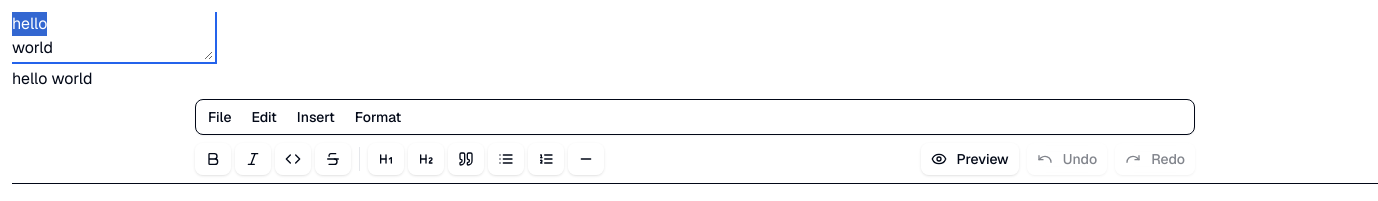
EditorToolbar › wraps selection with bold/italic and toggles back
This screenshot has width=1378, height=201.
Click the button named "Bold" at (213, 159), box [195,143,231,175]
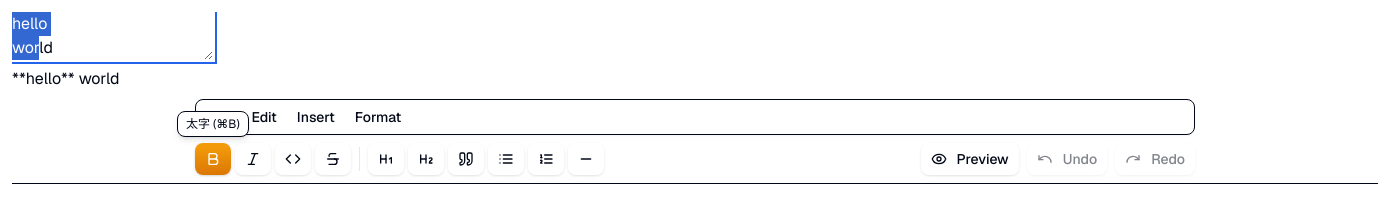
Now the text with test id "value" reads "**hello** world", box [12,68,120,89]
Click the button named "Bold" at (213, 159), box [195,143,231,175]
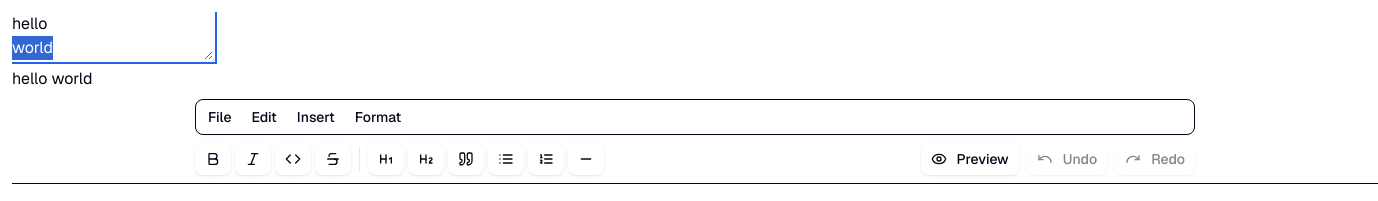
Now the text with test id "value" reads "hello world", box [12,68,92,89]
Click the button named "Italic" at (253, 159), box [235,143,271,175]
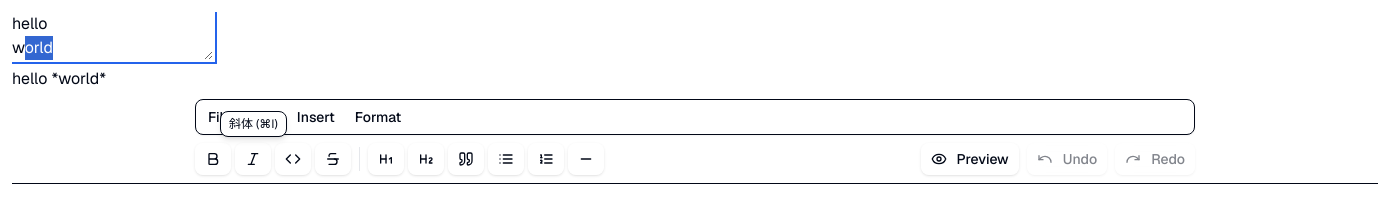
Now the text with test id "value" reads "hello *world*", box [12,68,106,89]
